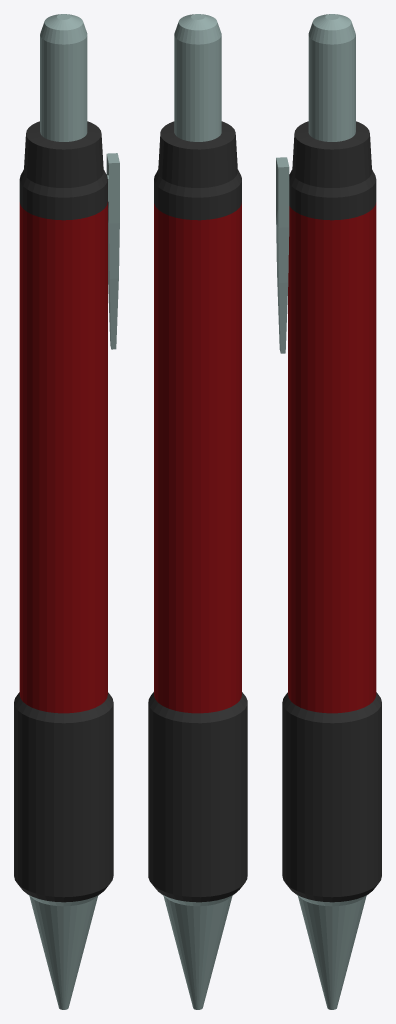
The model's file is Pen.fbx.
3 renders of one model, left to right at view 1: azimuth 90°, elevation 25°; view 2: azimuth 150°, elevation 25°; view 3: azimuth 270°, elevation 25°, orthographic.
Visible parts, largest first — view 1: Cylinder; view 2: Cylinder; view 3: Cylinder.
Part boxes in pixels (box(x1,y1,x2,y2)): Cylinder: box(14, 14, 119, 1009); Cylinder: box(148, 14, 247, 1009); Cylinder: box(276, 14, 381, 1009).
Size of the model in its own units: 14.77 by 162 by 15.72.
